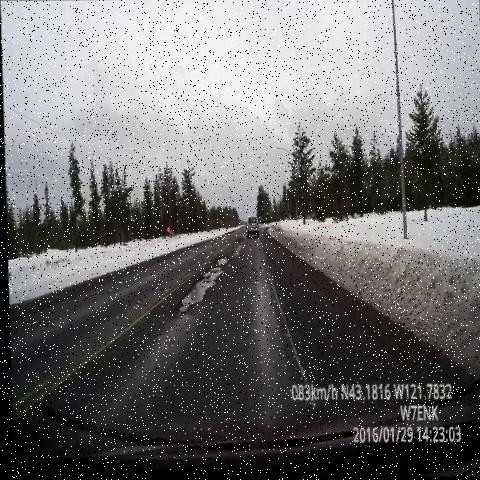pothole: (169, 251, 235, 325), (230, 228, 248, 247)
